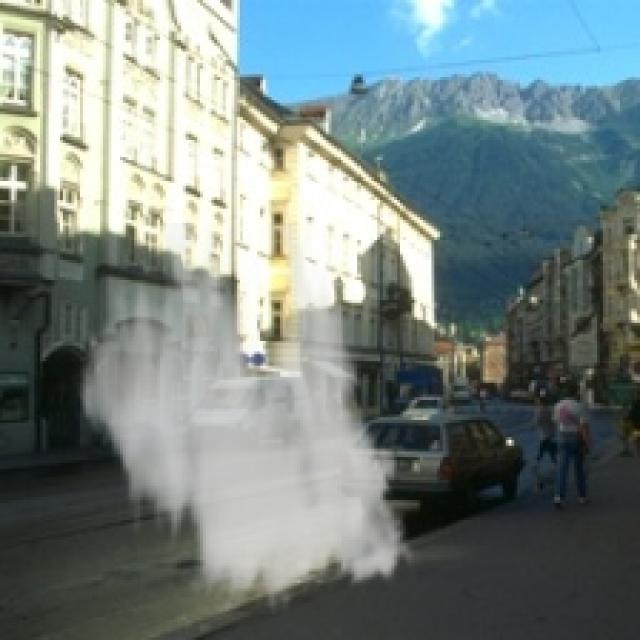smoke: (68, 223, 423, 614)
